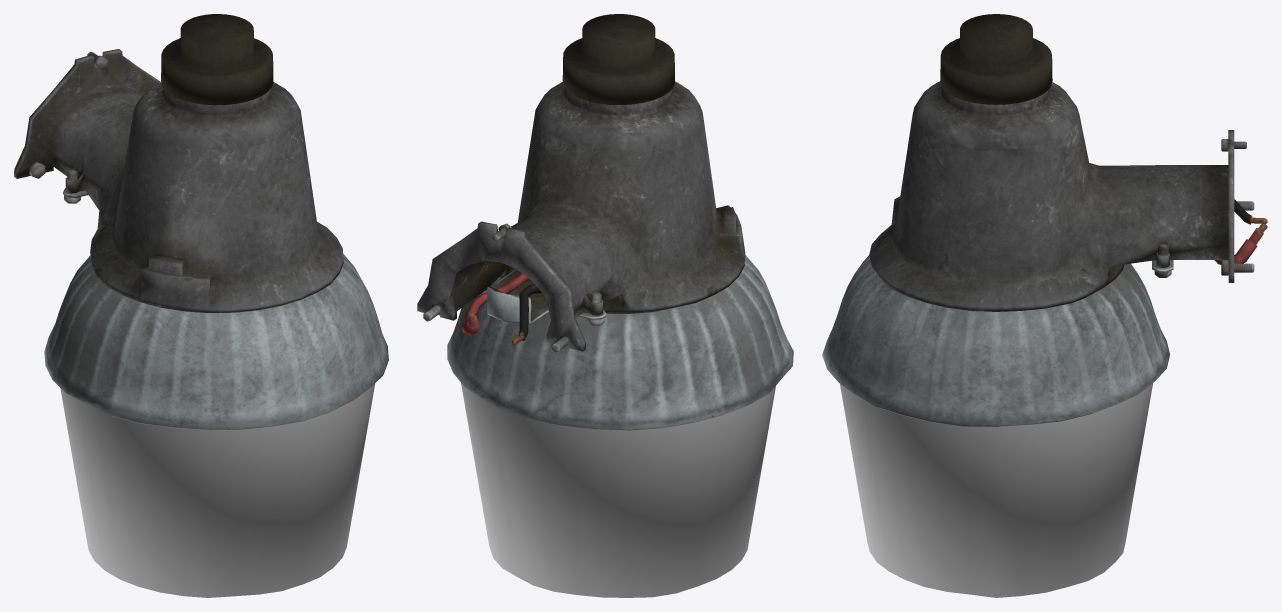
The model's file is SecurityLight.gltf.
The picture shows the model from 3 angles, left to right: view 1: azimuth 30°, elevation 25°; view 2: azimuth 150°, elevation 25°; view 3: azimuth 270°, elevation 25°; orthographic projection.
Parts seen in each view (by area): view 1: security_light, security_light_glass; view 2: security_light, security_light_glass; view 3: security_light, security_light_glass.
Boxes of the visible parts, x1=… form: security_light: x1=14, y1=14, x2=388, y2=429; security_light_glass: x1=60, y1=383, x2=375, y2=597; security_light: x1=417, y1=14, x2=793, y2=430; security_light_glass: x1=461, y1=383, x2=775, y2=597; security_light: x1=822, y1=14, x2=1267, y2=426; security_light_glass: x1=840, y1=383, x2=1152, y2=597.
Bounding box in the file's own units: 0.3231 × 0.531 × 0.4172.
